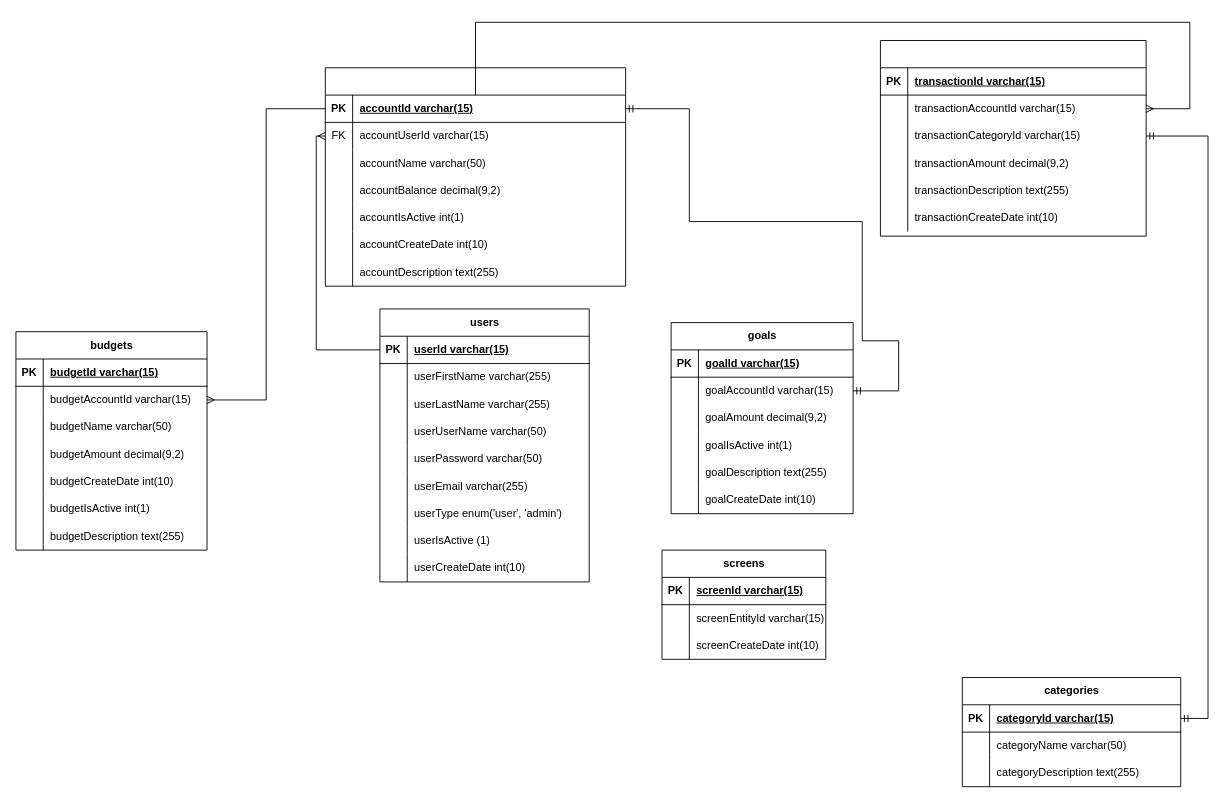
Image size: 1232x803. Some labels were removed from this diagram. Here are the shapes that lost their labels. From the top down, the box of each, then its label:
(880, 40, 1146, 236): transactions
(324, 67, 626, 286): accounts
